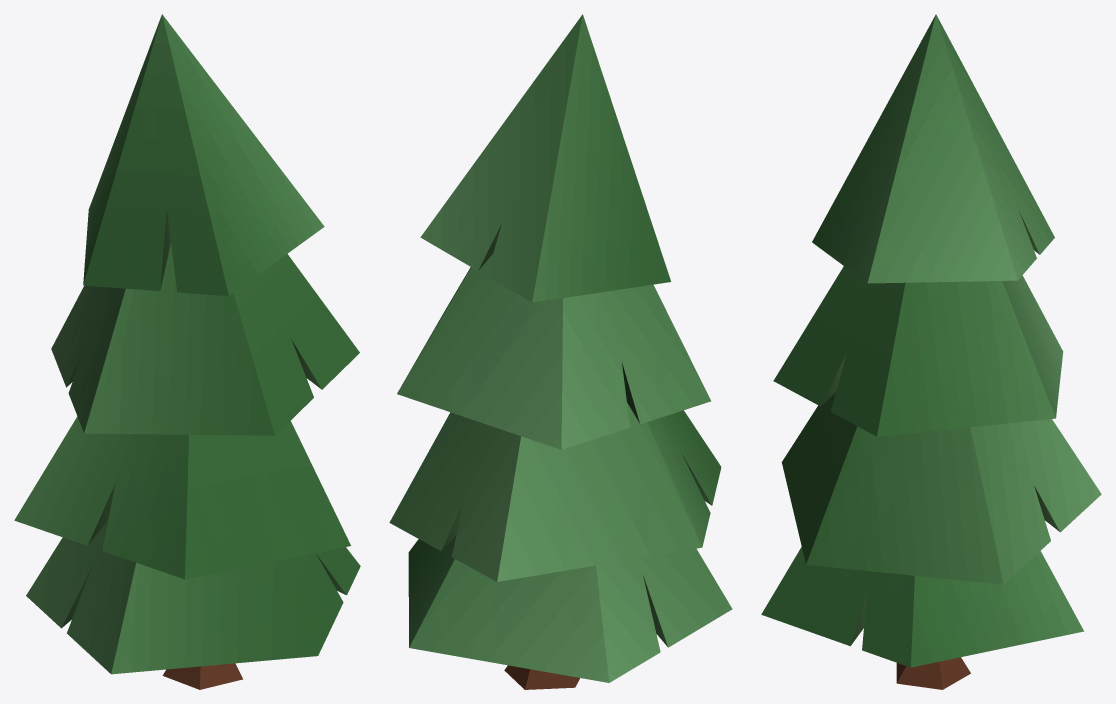
Rendered from pinheiro_jovem.glb.
3 renders of one model, left to right at view 1: azimuth 30°, elevation 25°; view 2: azimuth 150°, elevation 25°; view 3: azimuth 270°, elevation 25°, orthographic. The views are drawn at different scales.
Visible parts, largest first — view 1: PineVariantAYoungC; view 2: PineVariantAYoungC; view 3: PineVariantAYoungC.
Part boxes in pixels (x1,y1,x2,y2): PineVariantAYoungC: (14, 14, 360, 689); PineVariantAYoungC: (389, 14, 732, 689); PineVariantAYoungC: (761, 14, 1101, 689).
Size of the model in its own units: 1.43 by 2.85 by 1.37.
Materials: 1 (1 with a texture image).
